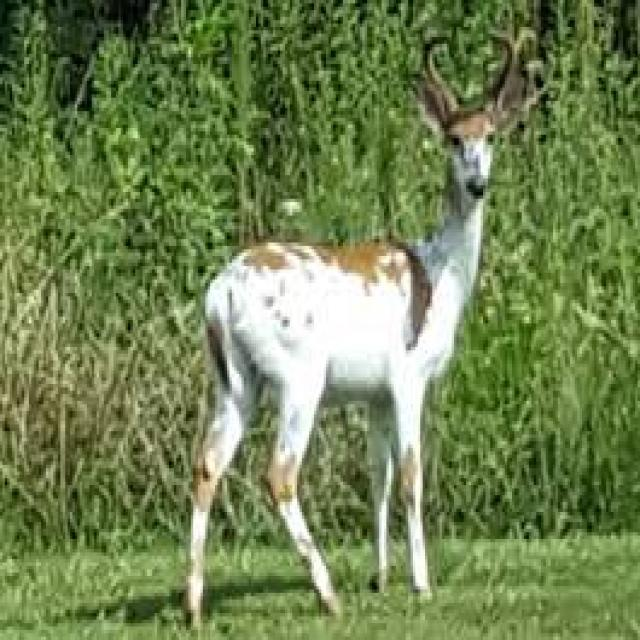Deer: (180, 37, 538, 631)
